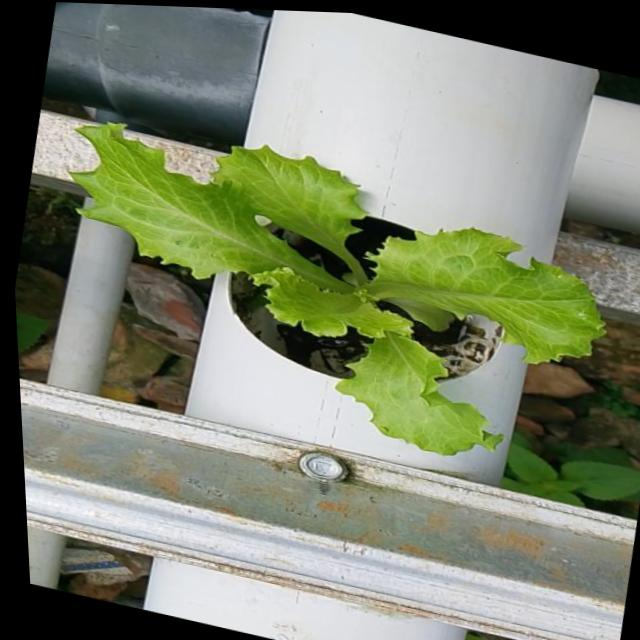Baby: (67, 121, 602, 454)
